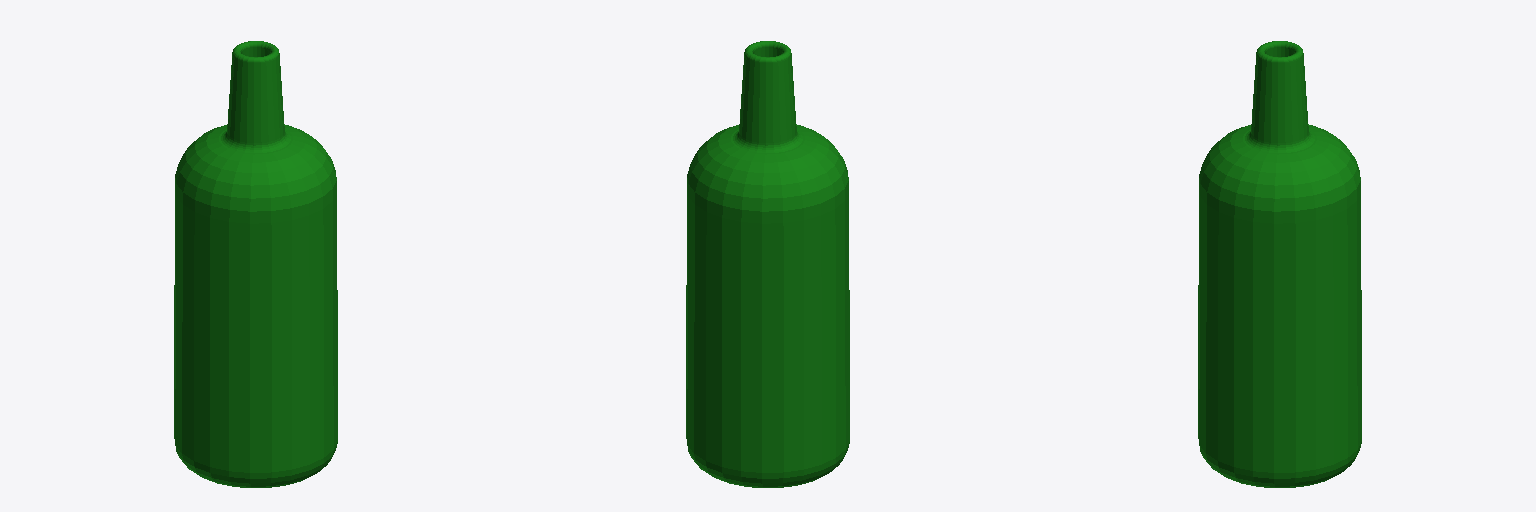
3 views of the same model, side by side, from view 1: azimuth 30°, elevation 25°; view 2: azimuth 150°, elevation 25°; view 3: azimuth 270°, elevation 25° (orthographic).
Visible parts, largest first — view 1: SketchUp.001_ID12.014; view 2: SketchUp.001_ID12.014; view 3: SketchUp.001_ID12.014.
Boxes of the visible parts, box(x1,y1,x2,y2) form: SketchUp.001_ID12.014: box(174, 41, 337, 487); SketchUp.001_ID12.014: box(686, 41, 849, 487); SketchUp.001_ID12.014: box(1198, 41, 1361, 487).
Size of the model in its own units: 0.088 by 0.2448 by 0.088.